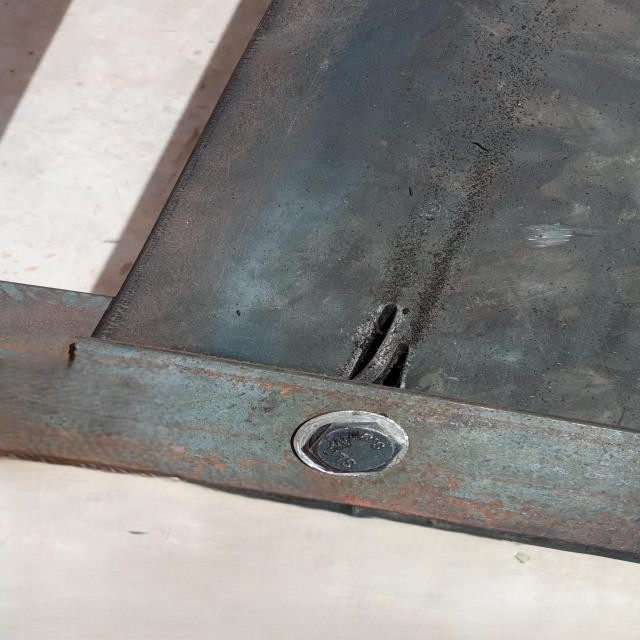Tear: (347, 299, 402, 386), (367, 338, 415, 390), (469, 136, 493, 158)
